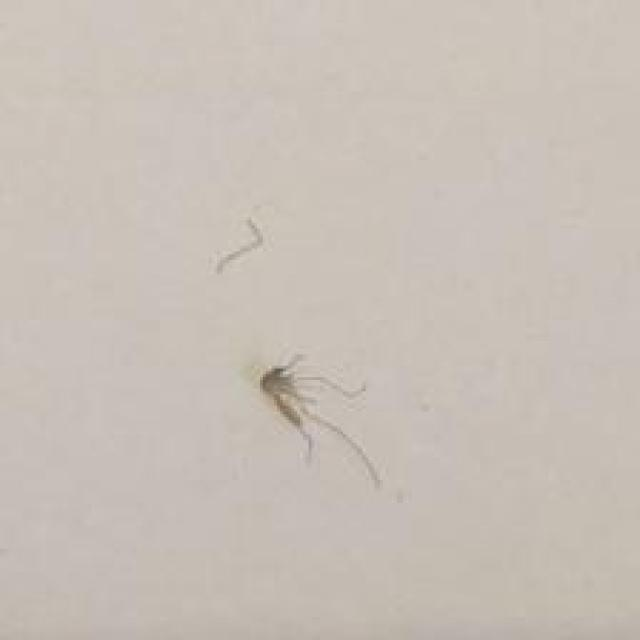Culex: (257, 352, 383, 488)
